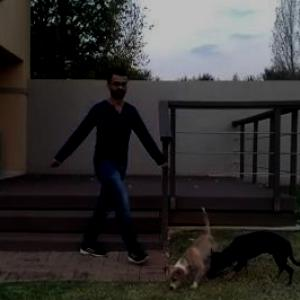land: (48, 73, 170, 273)
